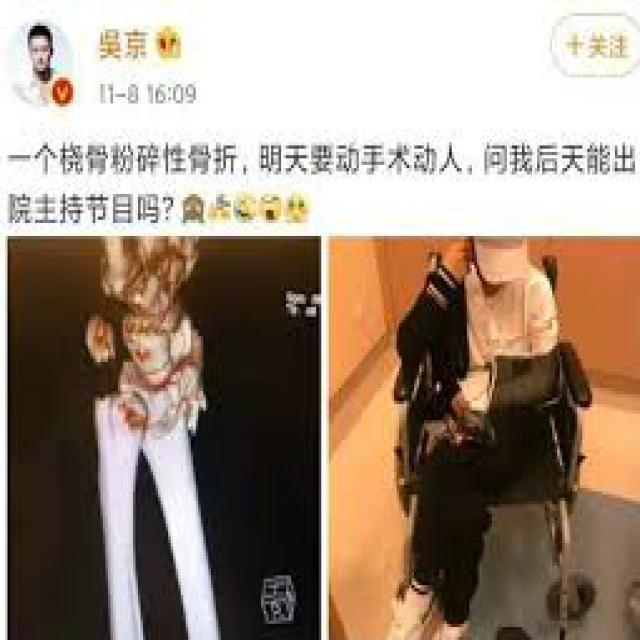wheelchairs: (399, 255, 600, 627)
